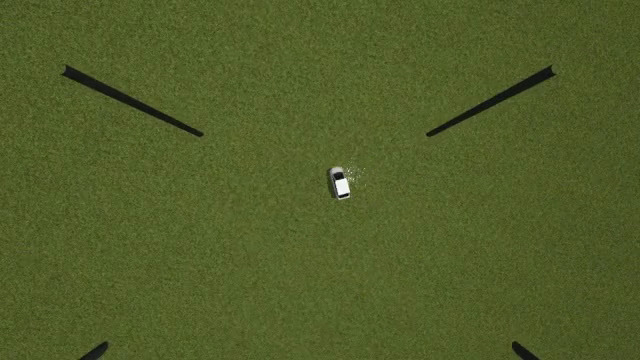Car: (330, 167, 349, 198)
